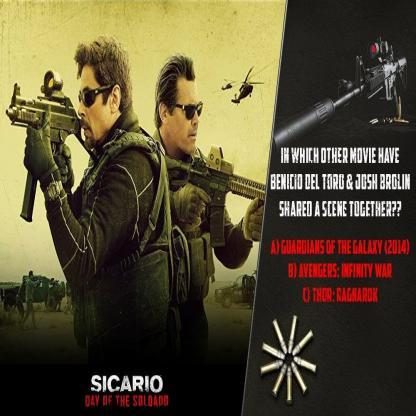Gun: (267, 23, 414, 175), (0, 63, 108, 239), (156, 127, 270, 262)
